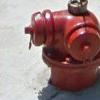Hydrant: (20, 2, 97, 99)
